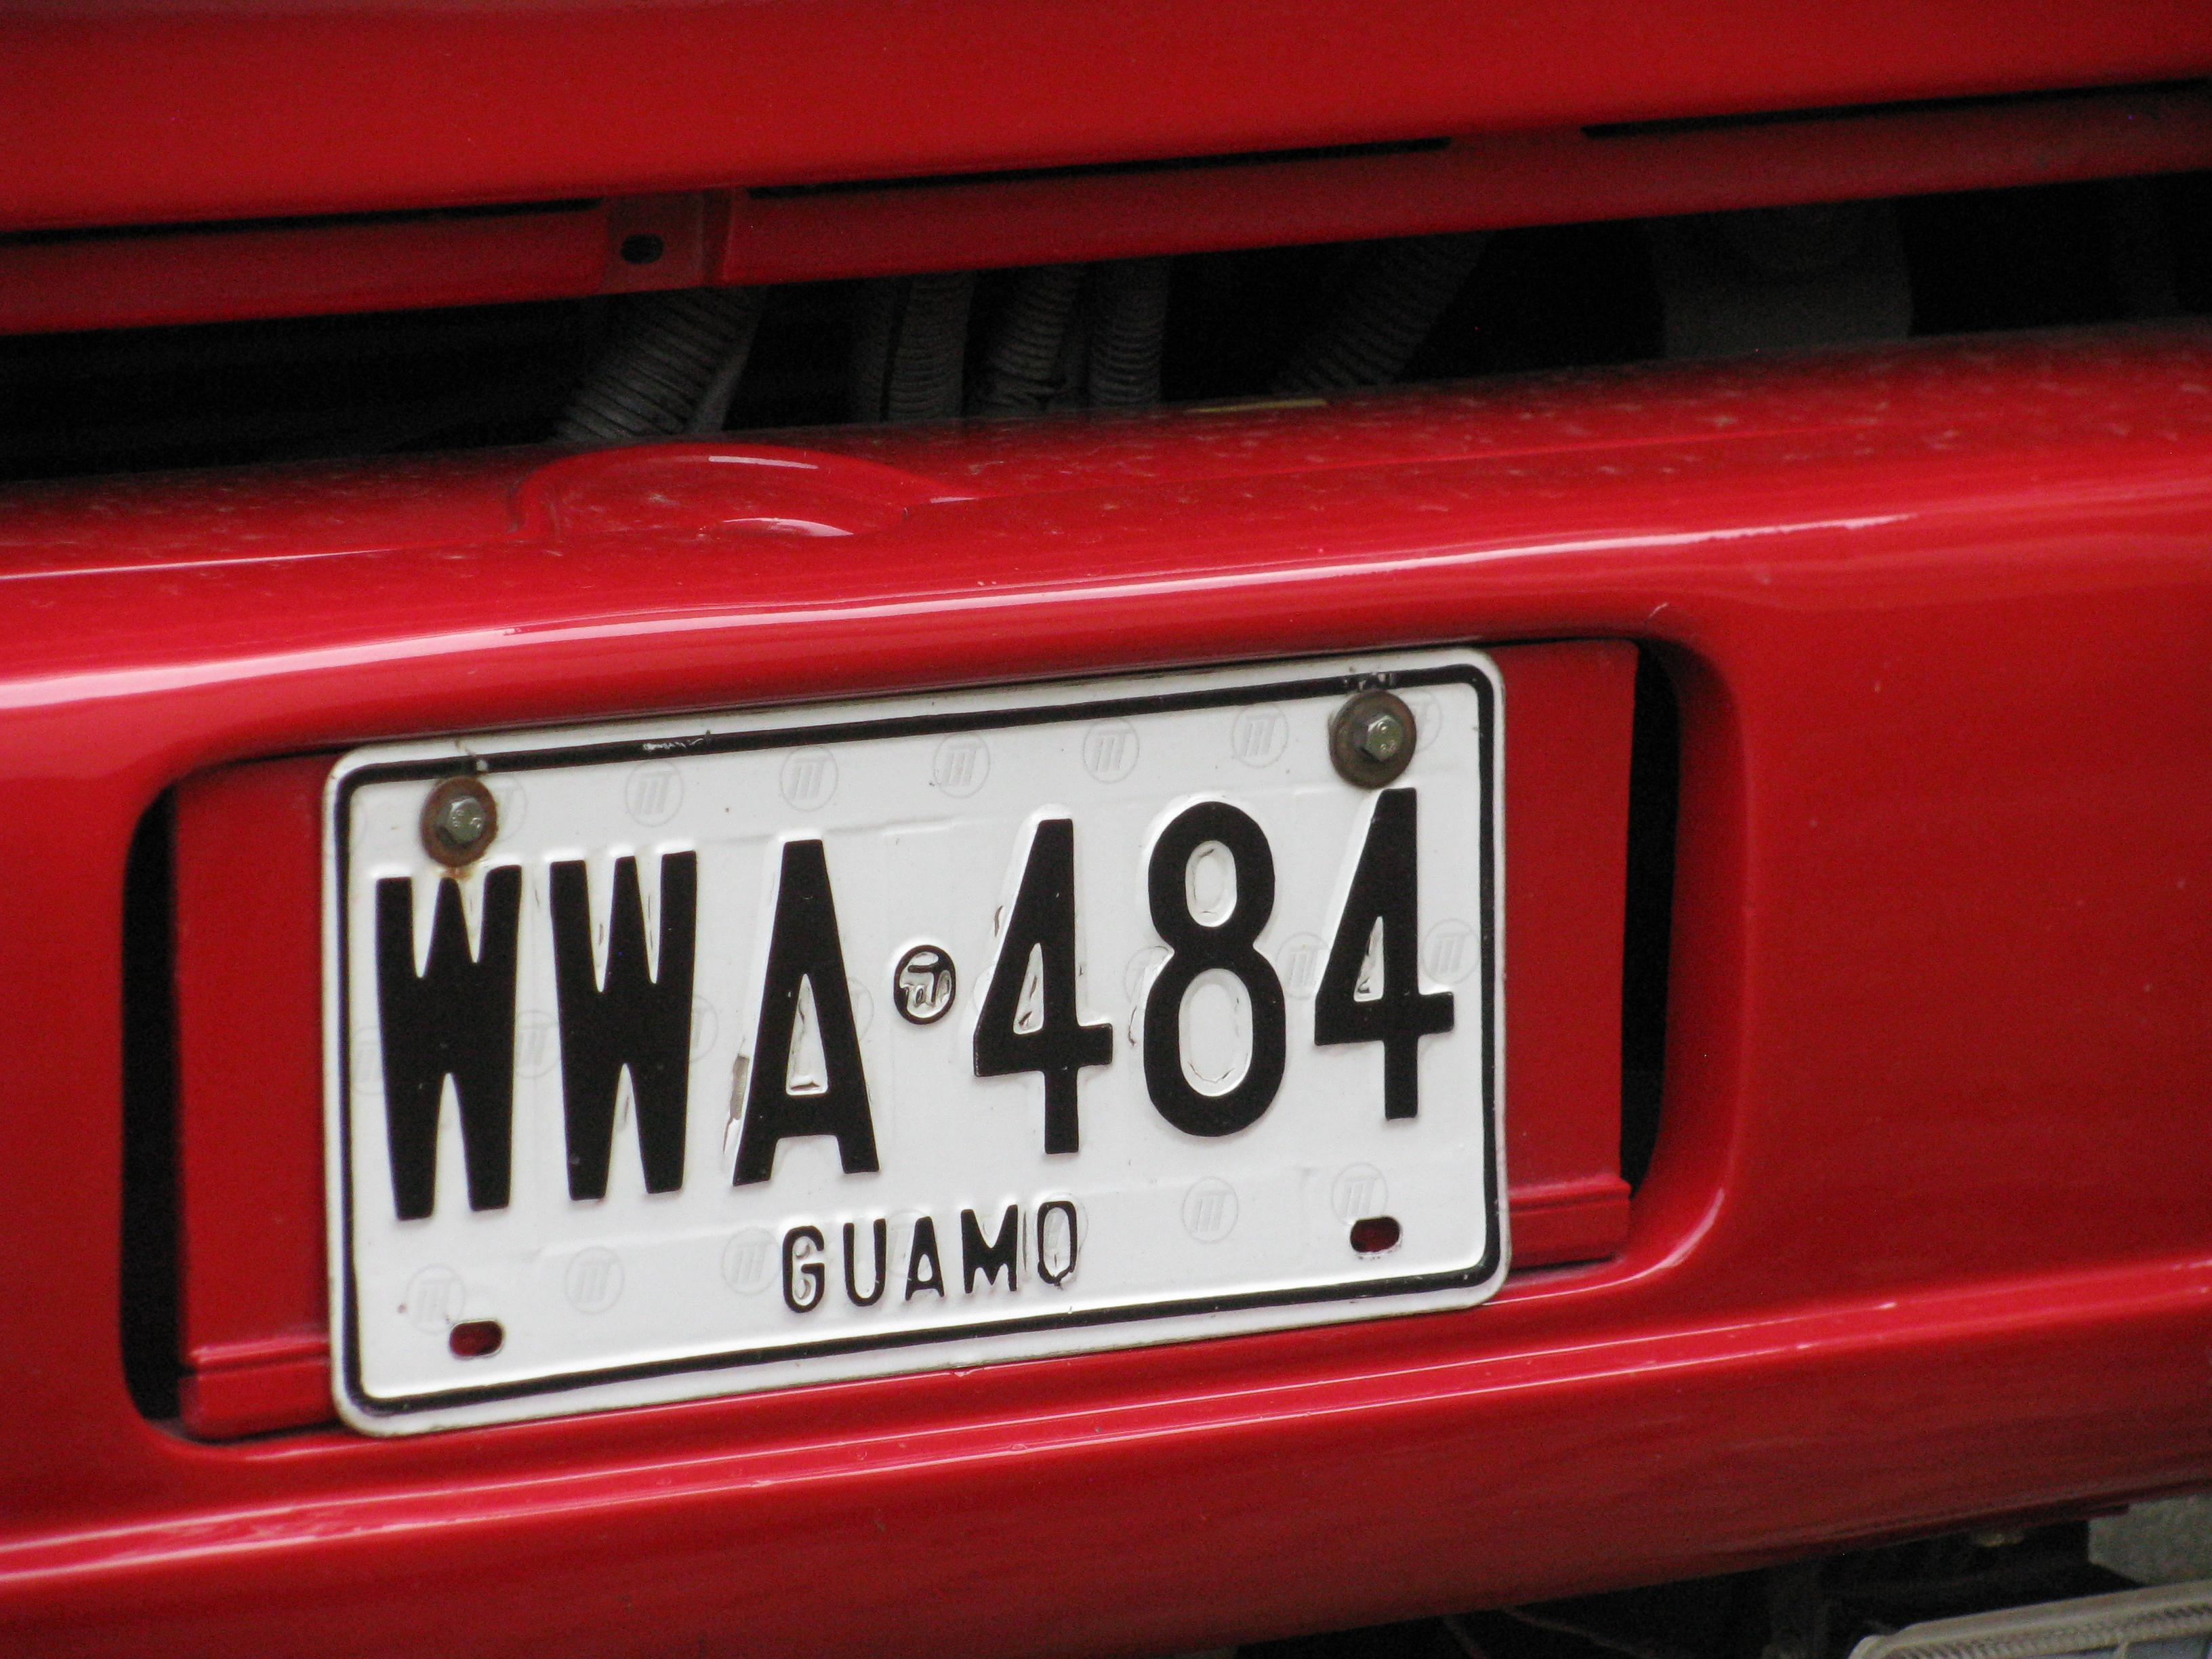placas: (318, 634, 1519, 1454)
